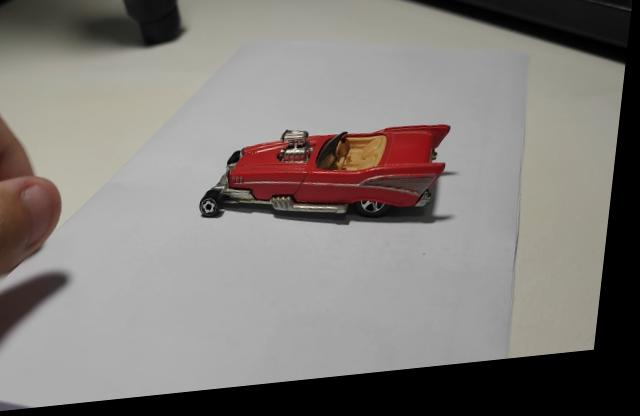03_V8: (204, 134, 455, 233)
